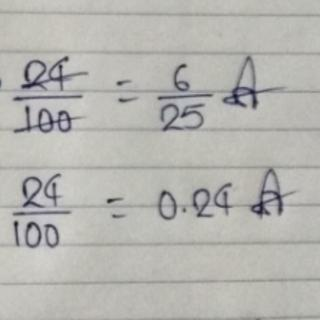.: (179, 203, 191, 215)
0: (159, 189, 177, 220), (25, 222, 41, 251), (45, 223, 59, 249)
1: (13, 219, 21, 245)
2: (22, 56, 47, 94), (21, 173, 44, 211), (156, 100, 182, 133), (193, 187, 213, 220)
4: (43, 173, 64, 209), (213, 182, 230, 214)
5: (181, 100, 206, 132)
6: (168, 57, 194, 93)
